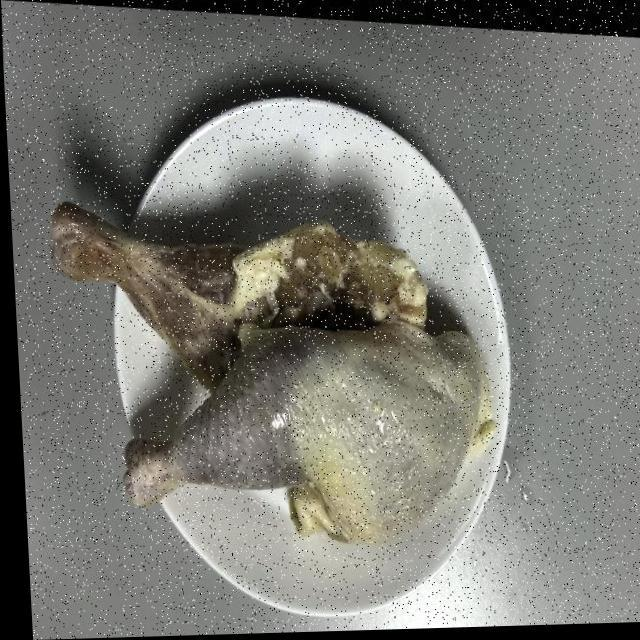quater: (85, 310, 493, 572), (25, 166, 428, 384)
